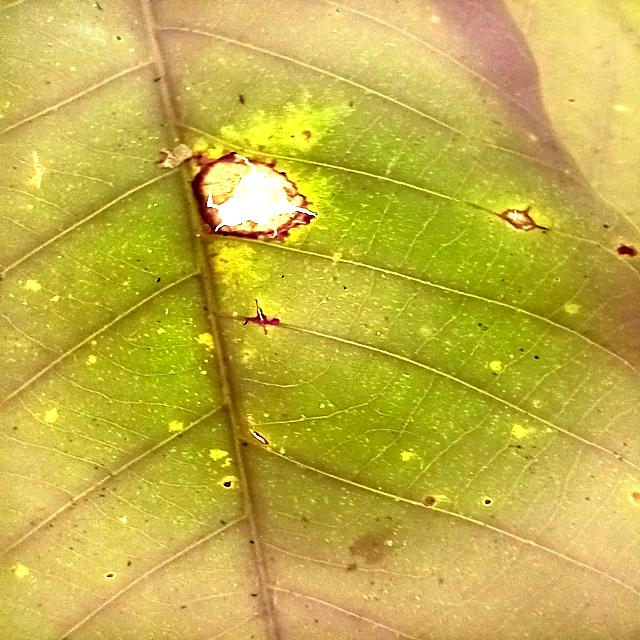Colletotrichum: (222, 481, 232, 488), (484, 498, 492, 505)
Leaf-Blight: (199, 153, 252, 203), (255, 162, 304, 207), (223, 211, 297, 232)
